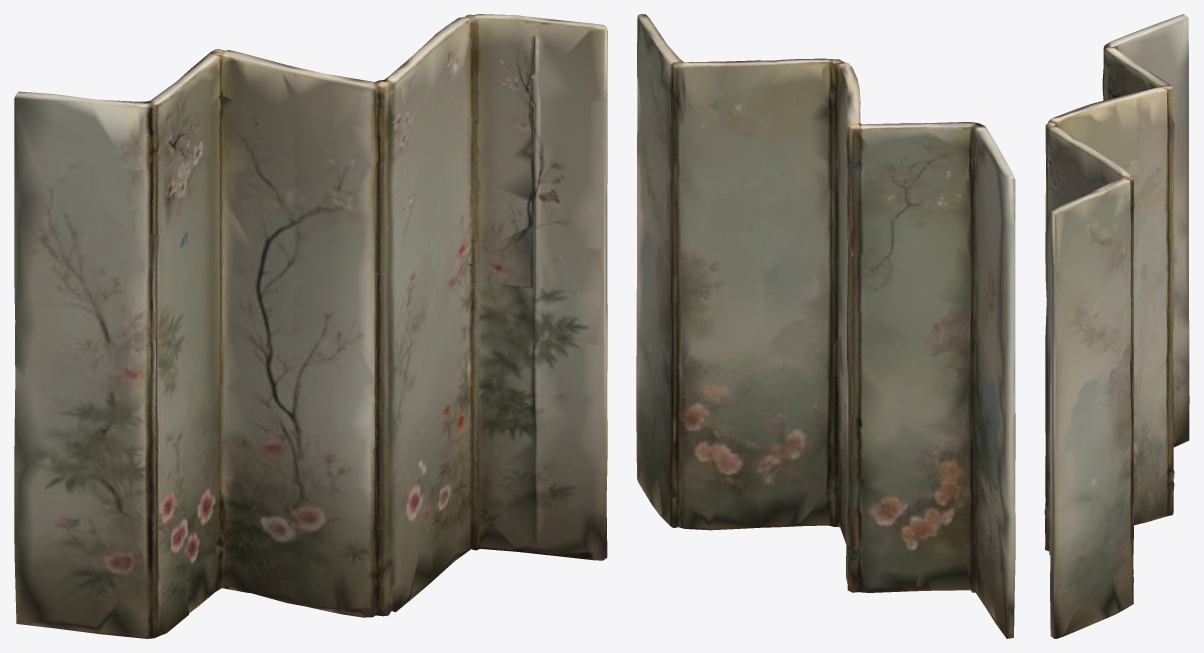
The model's file is pr_screen_blossom.glb.
3 views of the same model, side by side, from view 1: azimuth 30°, elevation 25°; view 2: azimuth 150°, elevation 25°; view 3: azimuth 270°, elevation 25° (orthographic). The views are drawn at different scales.
Size of the model in its own units: 2 by 1.98 by 0.608.
Materials: 1 (1 with a texture image).
